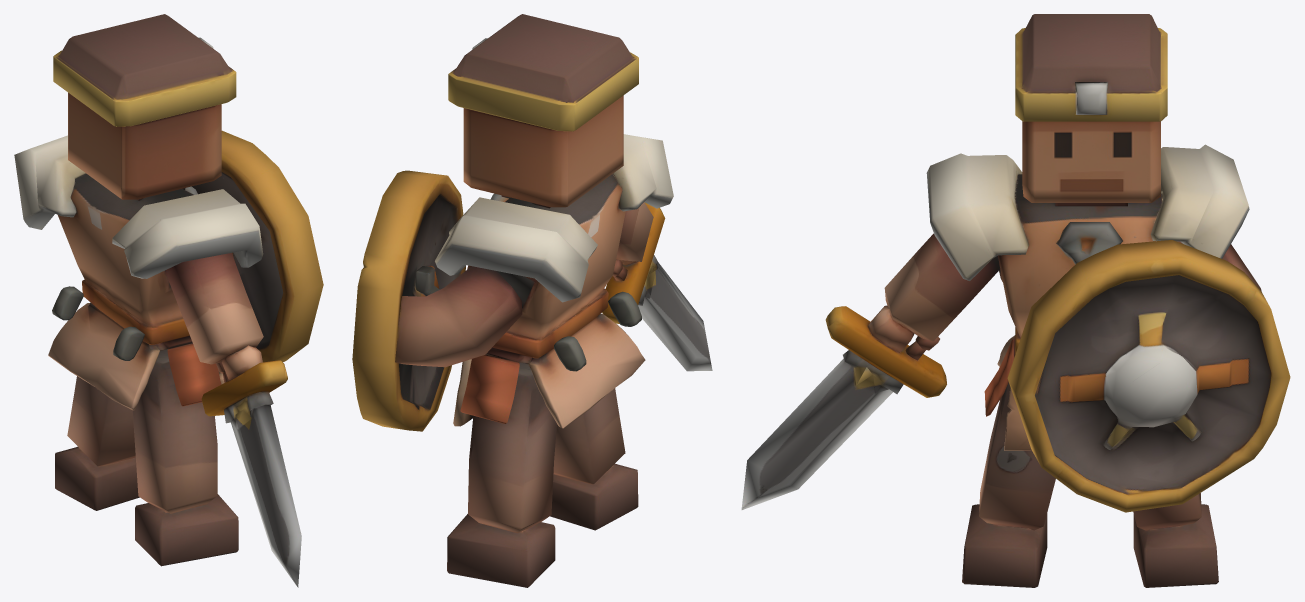
The model's file is heroe.glb.
3 views of the same model, side by side, from view 1: azimuth 30°, elevation 25°; view 2: azimuth 150°, elevation 25°; view 3: azimuth 270°, elevation 25° (orthographic). The views are drawn at different scales.
Parts seen in each view (by area): view 1: tripo_node_64d1deab-ec02-4e07-95ce-5f8e430917e4; view 2: tripo_node_64d1deab-ec02-4e07-95ce-5f8e430917e4; view 3: tripo_node_64d1deab-ec02-4e07-95ce-5f8e430917e4.
Boxes of the visible parts, box(x1,y1,x2,y2) form: tripo_node_64d1deab-ec02-4e07-95ce-5f8e430917e4: box(14, 14, 323, 587); tripo_node_64d1deab-ec02-4e07-95ce-5f8e430917e4: box(352, 14, 712, 587); tripo_node_64d1deab-ec02-4e07-95ce-5f8e430917e4: box(741, 14, 1290, 587).
Size of the model in its own units: 0.4941 by 0.998 by 0.9434.
1 material, 1 textured.
